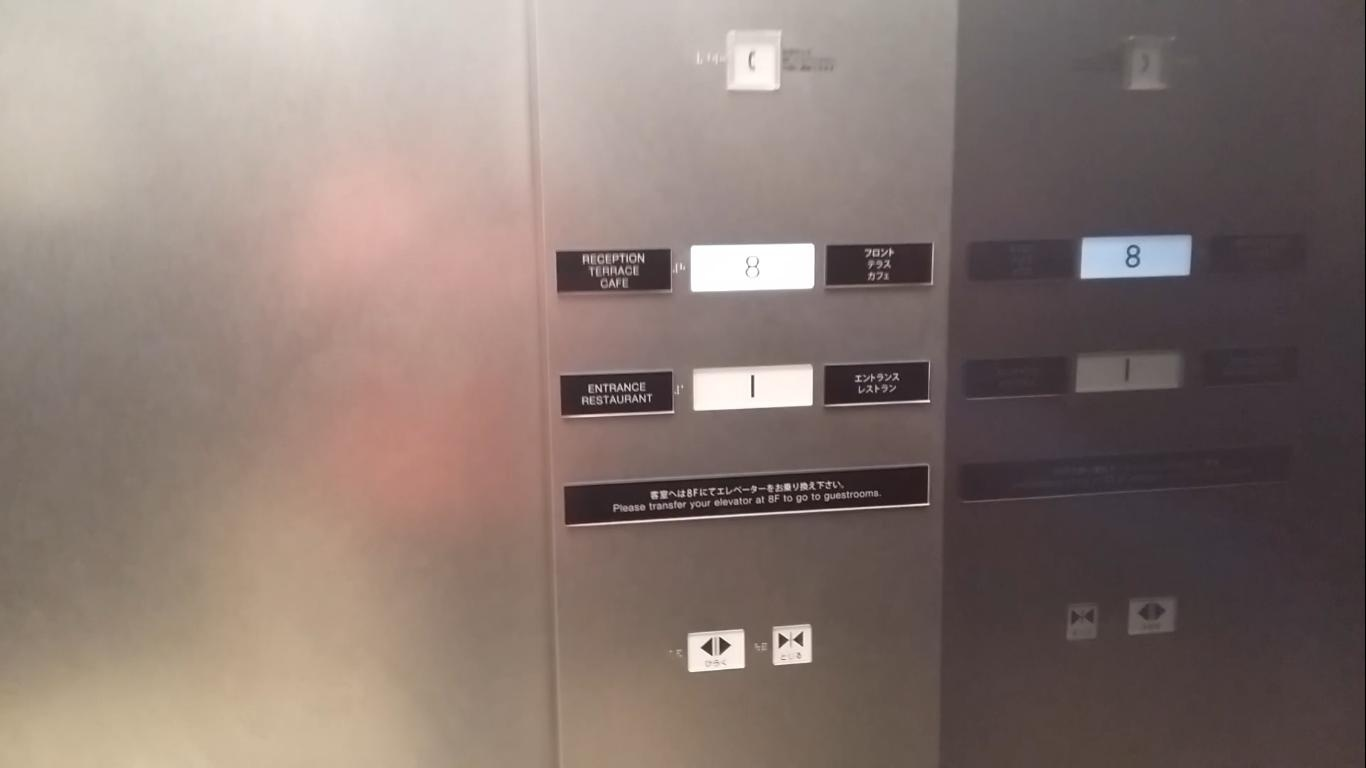1: (690, 361, 818, 414), (1074, 349, 1186, 392)
8: (688, 239, 818, 295), (1078, 231, 1194, 280)
call: (724, 29, 783, 91), (1120, 33, 1176, 93)
close: (770, 620, 815, 667), (1061, 599, 1102, 642)
open: (685, 627, 746, 675), (1122, 591, 1180, 640)
